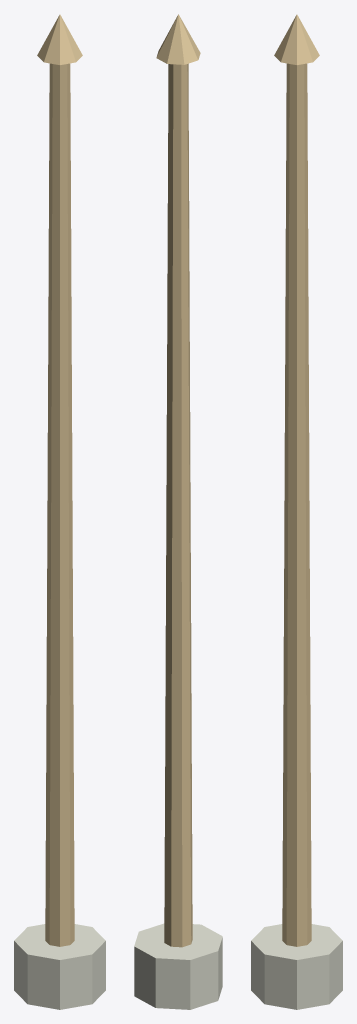
Rendered from flagpole.glb.
3 views of the same model, side by side, from view 1: azimuth 90°, elevation 25°; view 2: azimuth 150°, elevation 25°; view 3: azimuth 270°, elevation 25° (orthographic).
Parts seen in each view (by area): view 1: Brass pole finial; view 2: Brass pole finial; view 3: Brass pole finial.
Boxes of the visible parts, x1,y1,x2,y2 form: Brass pole finial: [14, 14, 105, 1009]; Brass pole finial: [134, 14, 222, 1009]; Brass pole finial: [251, 14, 342, 1009].
Bounding box in the file's own units: 0.4 × 4.7 × 0.4.
